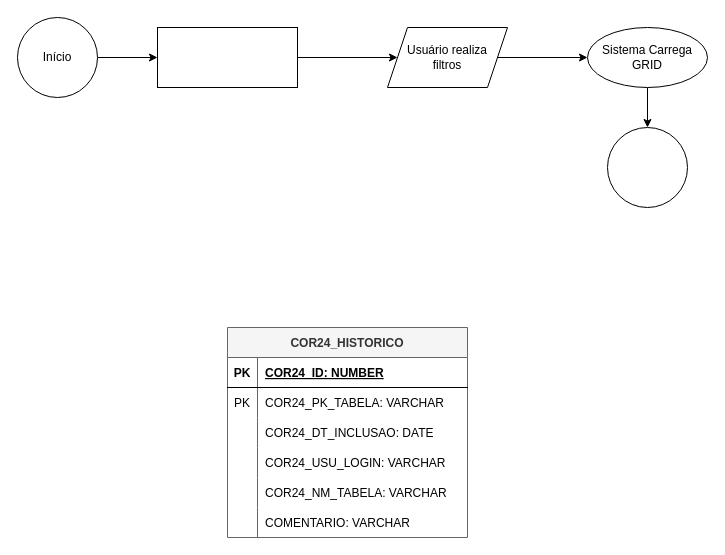
Some shapes in this 725 by 555 pixel diagram are drawn without their labels. The shapes that lost their labels are listed below. From the top down, each one's box as (x1, y1, x2, y2) in pixels, then its label:
(156, 26, 298, 88): Usuário acessa a tela Programas de Entrega
(606, 126, 688, 208): Fim
